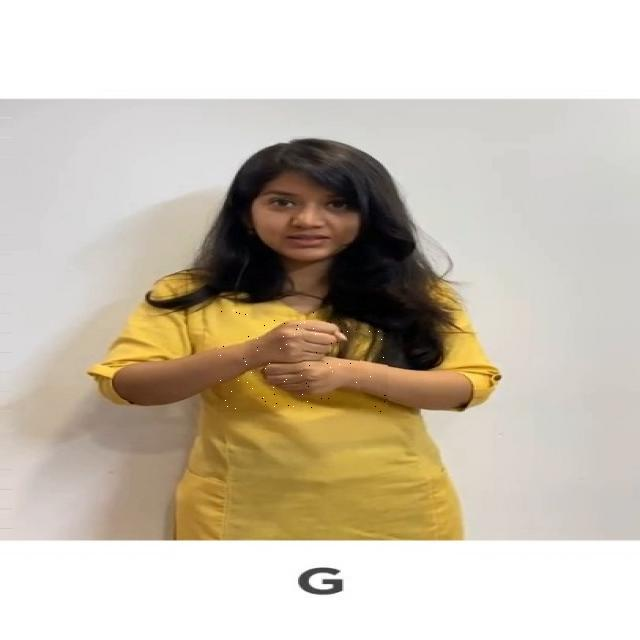G: (217, 310, 388, 412)
